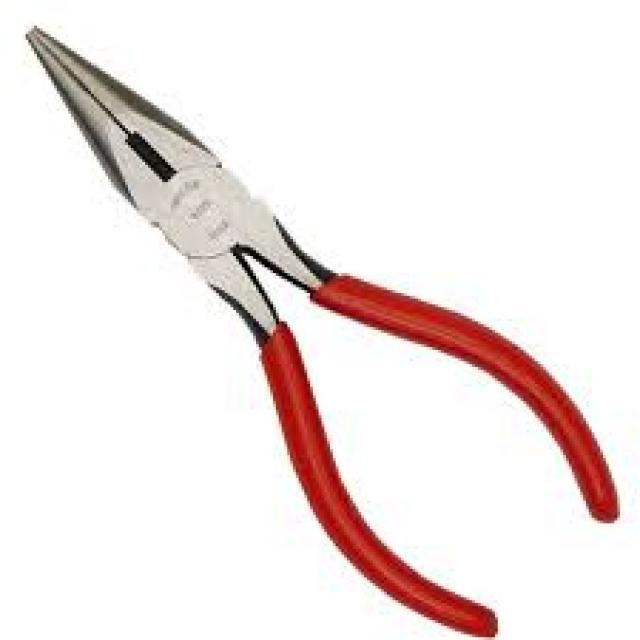pliers: (16, 15, 625, 631)
